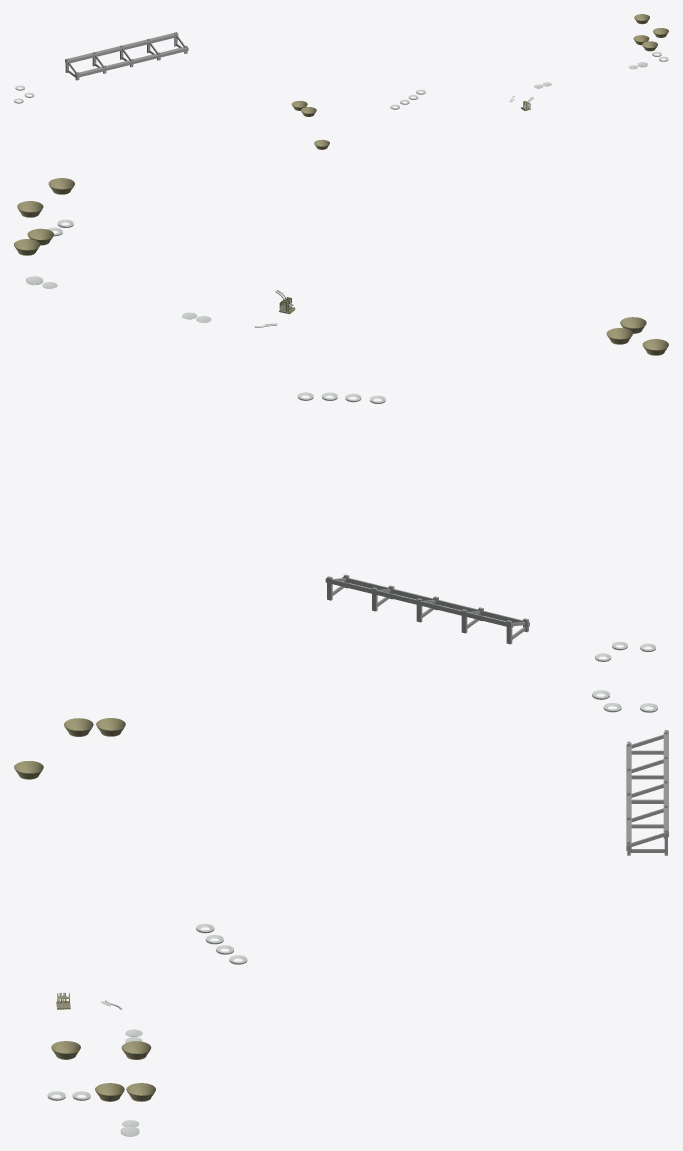
3 views of the same model, one above another, from view 1: azimuth 30°, elevation 25°; view 2: azimuth 150°, elevation 25°; view 3: azimuth 270°, elevation 25° (orthographic). The views are drawn at different scales.
Visible parts, largest first — view 1: G:\FFXIV-MapTools\exports\y6f3\bg\ex5\02_ykt_y6\fld\y6f3\bgp (×2); view 2: G:\FFXIV-MapTools\exports\y6f3\bg\ex5\02_ykt_y6\fld\y6f3\bgp (×2); view 3: G:\FFXIV-MapTools\exports\y6f3\bg\ex5\02_ykt_y6\fld\y6f3\bgp (×2).
Boxes of the visible parts, x1,y1,x2,y2 form: G:\FFXIV-MapTools\exports\y6f3\bg\ex5\02_ykt_y6\fld\y6f3\bgp (×2): (14, 14, 668, 149); G:\FFXIV-MapTools\exports\y6f3\bg\ex5\02_ykt_y6\fld\y6f3\bgp (×2): (14, 178, 668, 661); G:\FFXIV-MapTools\exports\y6f3\bg\ex5\02_ykt_y6\fld\y6f3\bgp (×2): (14, 690, 668, 1126).
Size of the model in its own units: 37.62 by 4.07 by 22.52.
